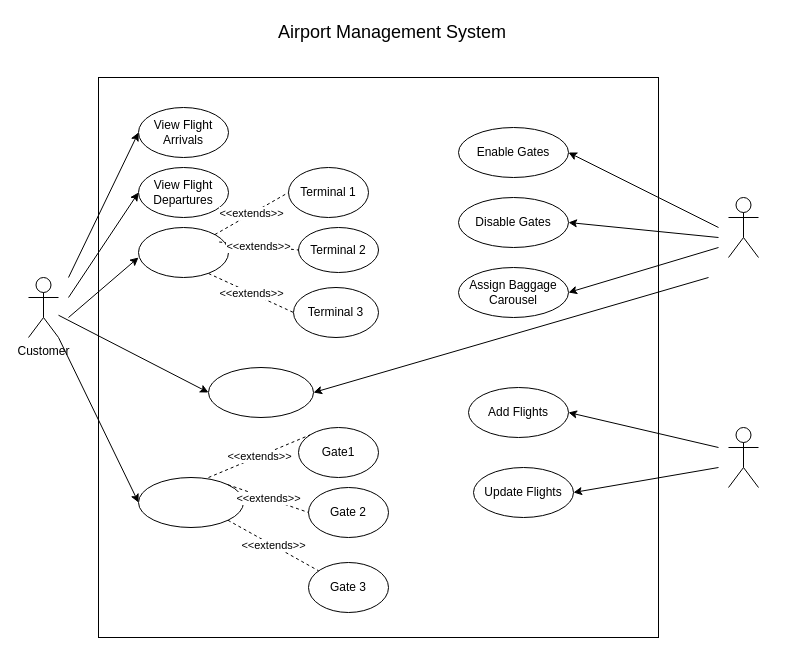
The diagram is 806 pixels wide and 655 high, and some of its shapes have lost their labels. Here are the shapes that lost their labels. From the top down, the centre of each, then its label:
the point at 743,227: Airport Employee
the point at 183,252: Flight Terminals
the point at 261,392: Baggage Claim Information
the point at 743,457: Airline Employee
the point at 191,502: View Gate Assignments
